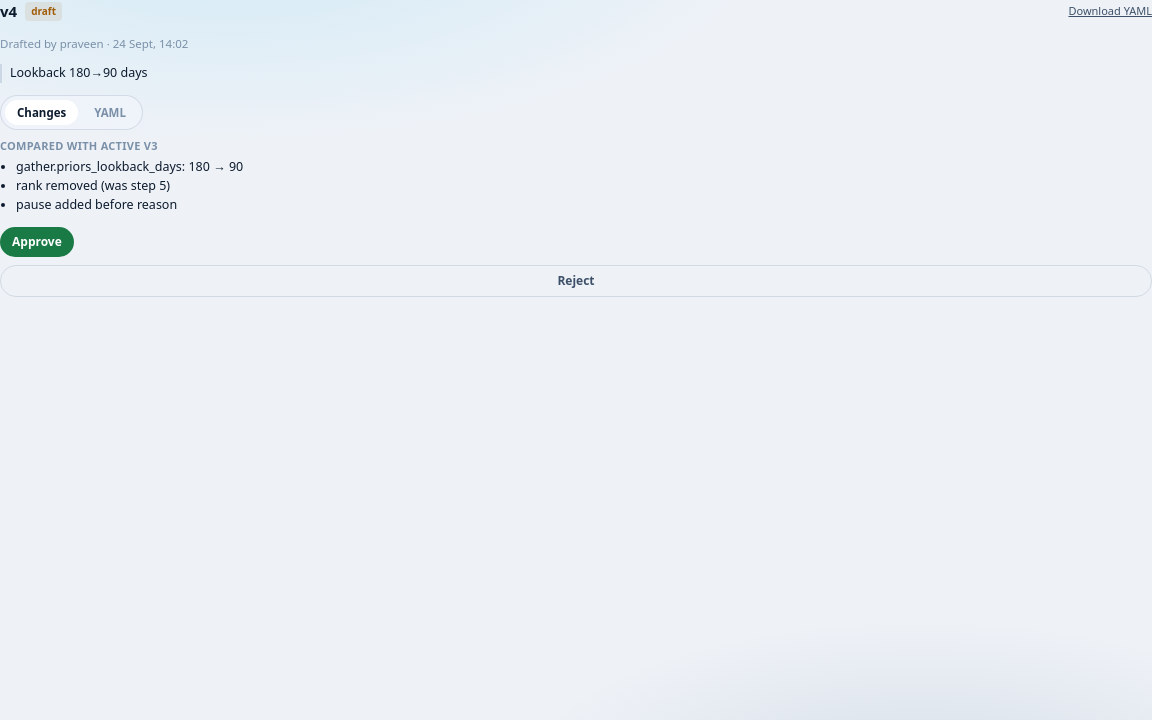
Test: VersionDetail › requires a reason to reject
Later steps or results of the test are not shown.
Click the button "Reject". click: coordinates (576, 280)
box: left=0, top=264, right=1151, bottom=296
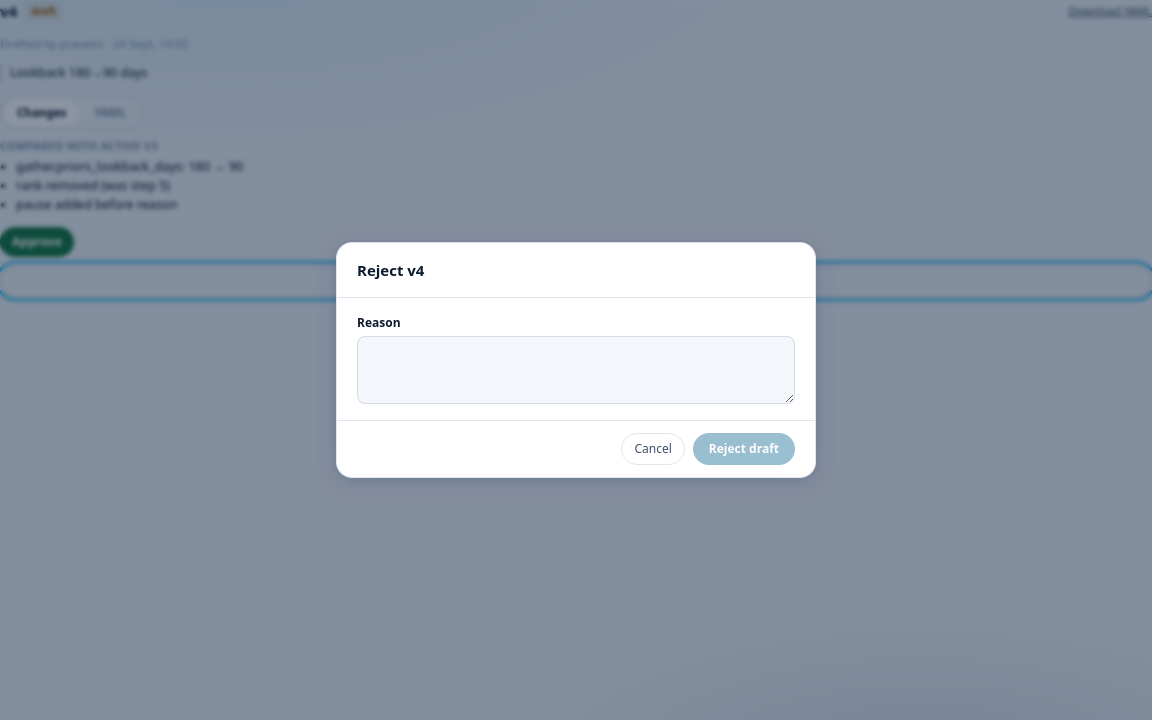
expect the button "Reject draft" is disabled: met, box left=693, top=433, right=795, bottom=465
